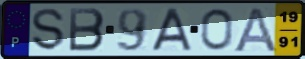9: (114, 7, 152, 52)
A: (230, 6, 279, 54), (150, 7, 193, 52)
B: (67, 7, 106, 53)
O: (200, 8, 235, 52)
S: (30, 7, 66, 52)
